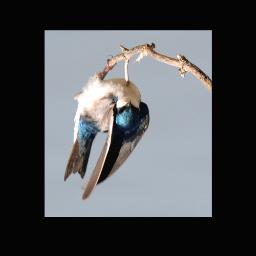Swallow: (63, 55, 150, 202)
